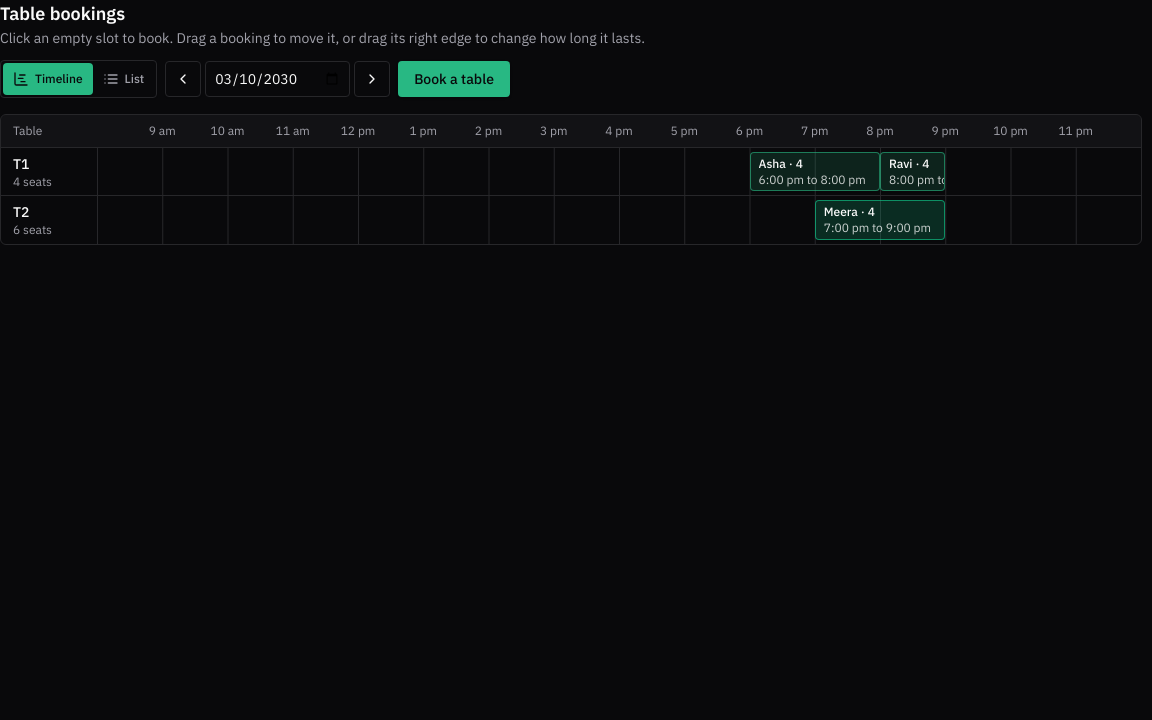
table bookings › shows the server reason when the booking is refused
Click the button "Book a table": click(454, 79) left=398, top=61, right=510, bottom=97
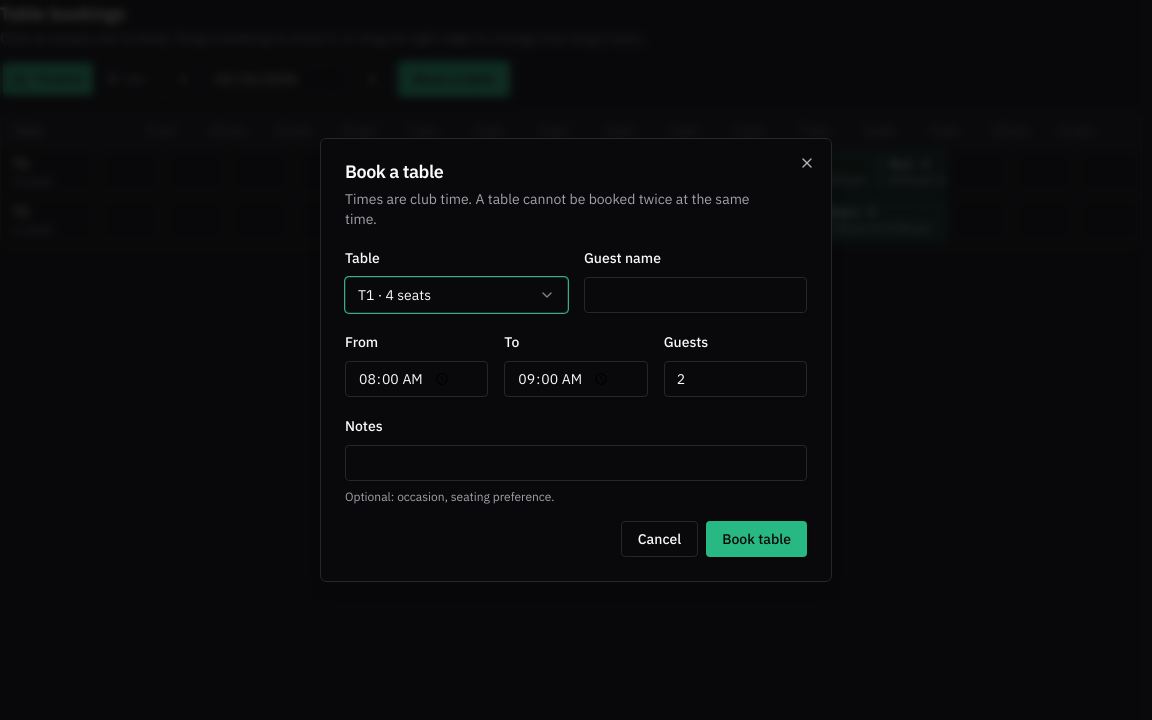
In the field labelled "Guest name": (696, 295) left=584, top=277, right=807, bottom=313, type "Late"
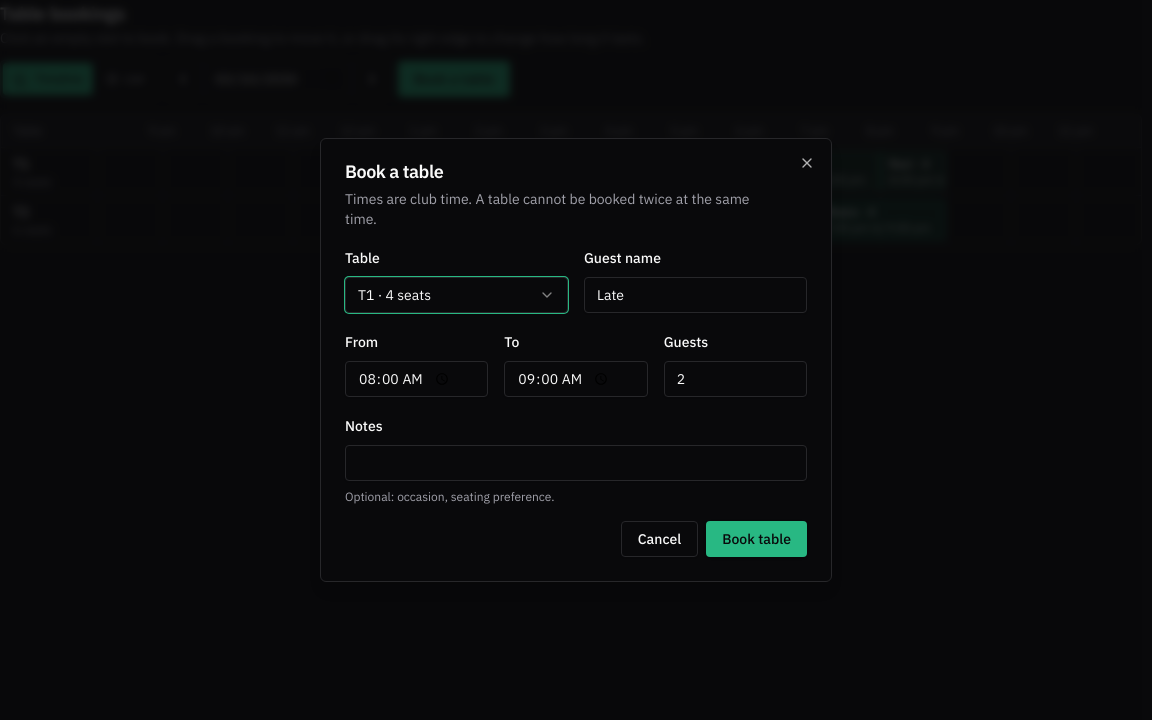
Click the button "Book table": click(757, 539) left=706, top=521, right=807, bottom=557
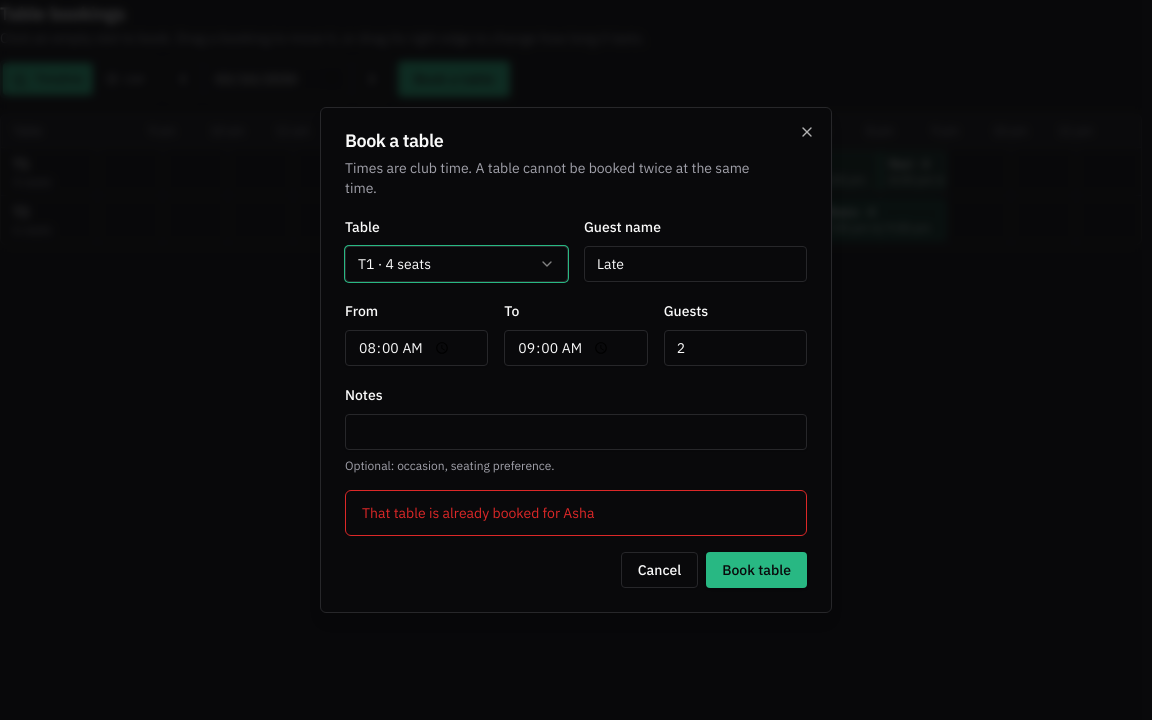
Now the message shows "already booked for Asha", box left=362, top=504, right=594, bottom=522
